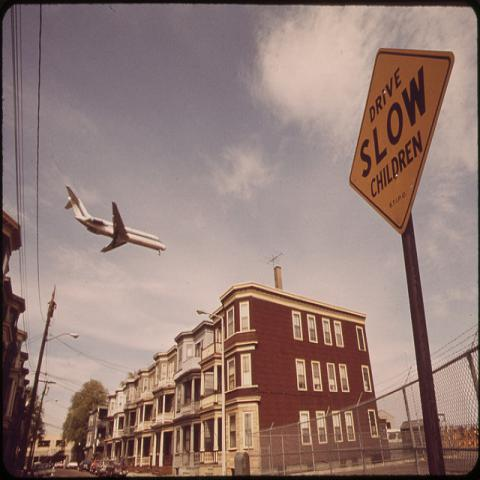car: (26, 461, 56, 478), (97, 459, 114, 477), (89, 460, 101, 474), (78, 461, 90, 471), (55, 463, 64, 468)
